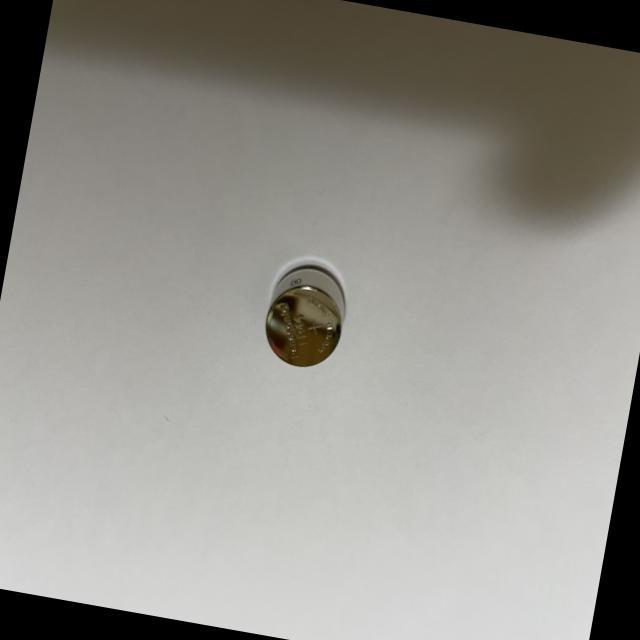COIN: (257, 258, 352, 372)
